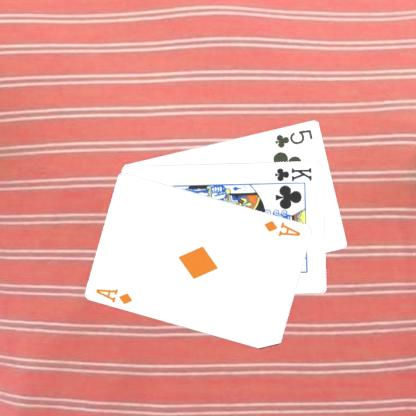5C: (272, 126, 314, 149)
AD: (93, 286, 134, 306), (262, 218, 302, 238)
KC: (269, 165, 313, 186)
